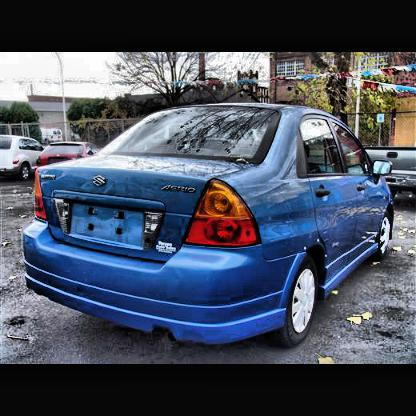Suzuki Aerio Sedan 2007: (21, 100, 397, 343)
